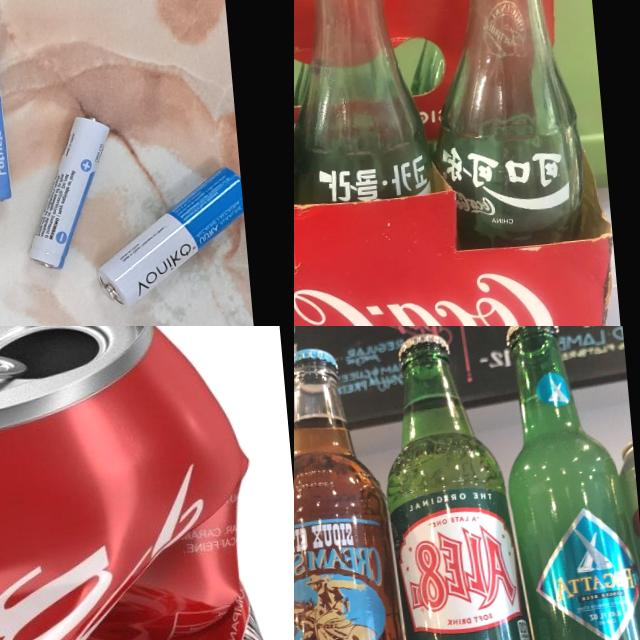bateria: (86, 165, 250, 309), (15, 114, 121, 274), (0, 40, 11, 204)
garrafa de vidro: (373, 327, 537, 640), (493, 326, 640, 640), (413, 0, 590, 252), (294, 342, 408, 640), (294, 0, 441, 209)
lata: (0, 326, 293, 640)
